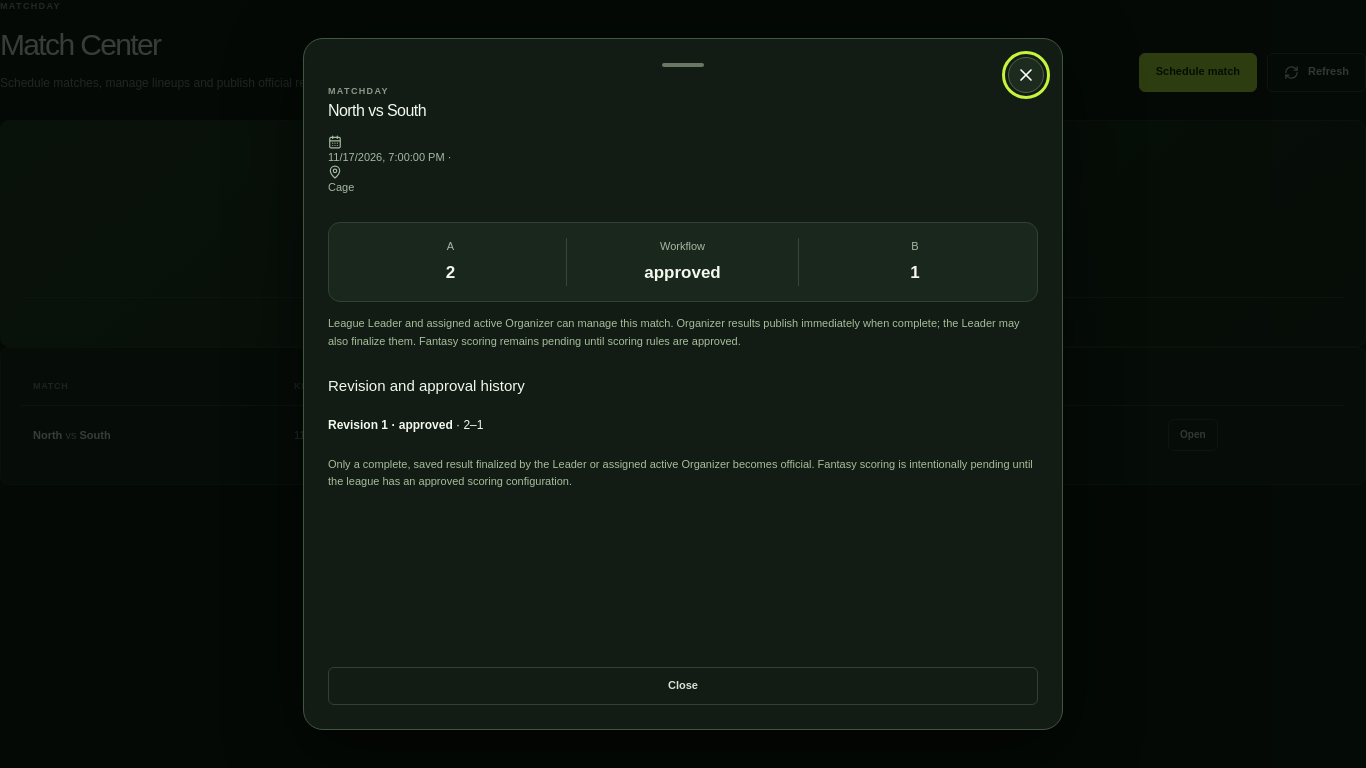
Test: Live fixtures and scheduling › opens a persistent match URL directly to match details and revision history
Check: the heading "North vs South" is shown, box [328, 102, 426, 119]
Check: the text "Revision 1 · approved" is shown, box [328, 418, 453, 432]
Click the button "Close" at (683, 686), box [328, 667, 1038, 705]
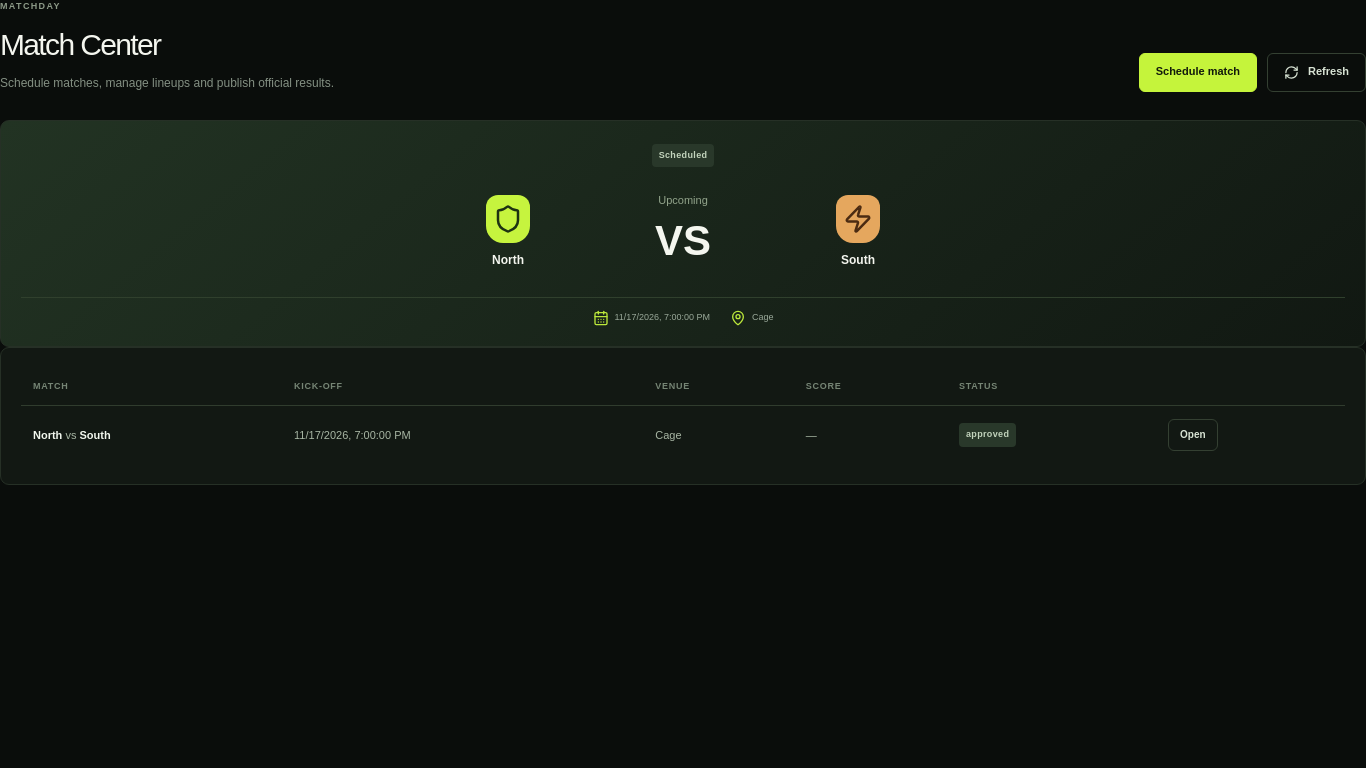
Check: the dialog is gone
